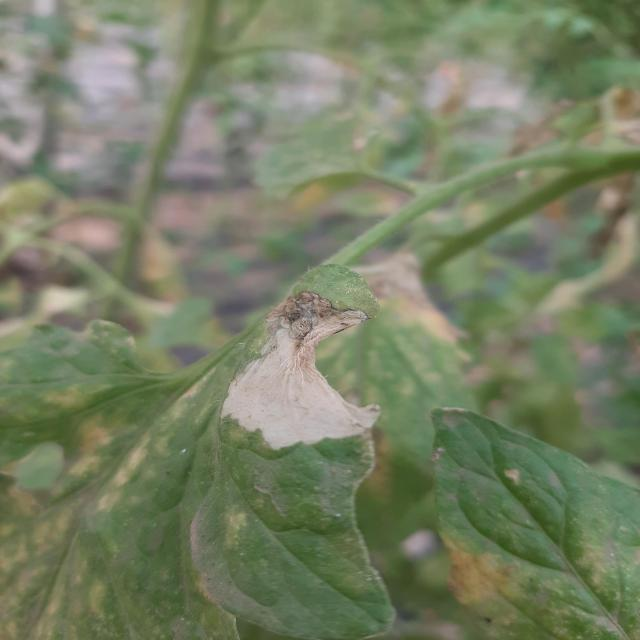Tuta absoluta: (214, 273, 419, 485)
